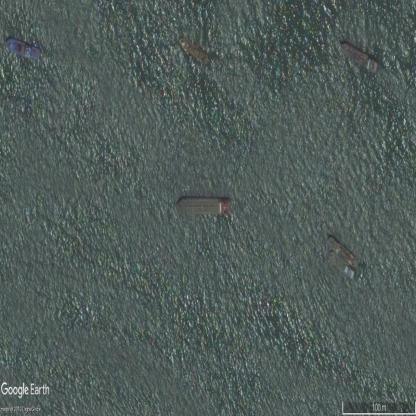ship: (340, 42, 378, 75), (327, 234, 360, 269), (176, 197, 231, 217), (180, 35, 207, 65), (329, 253, 355, 281), (6, 39, 39, 59)
